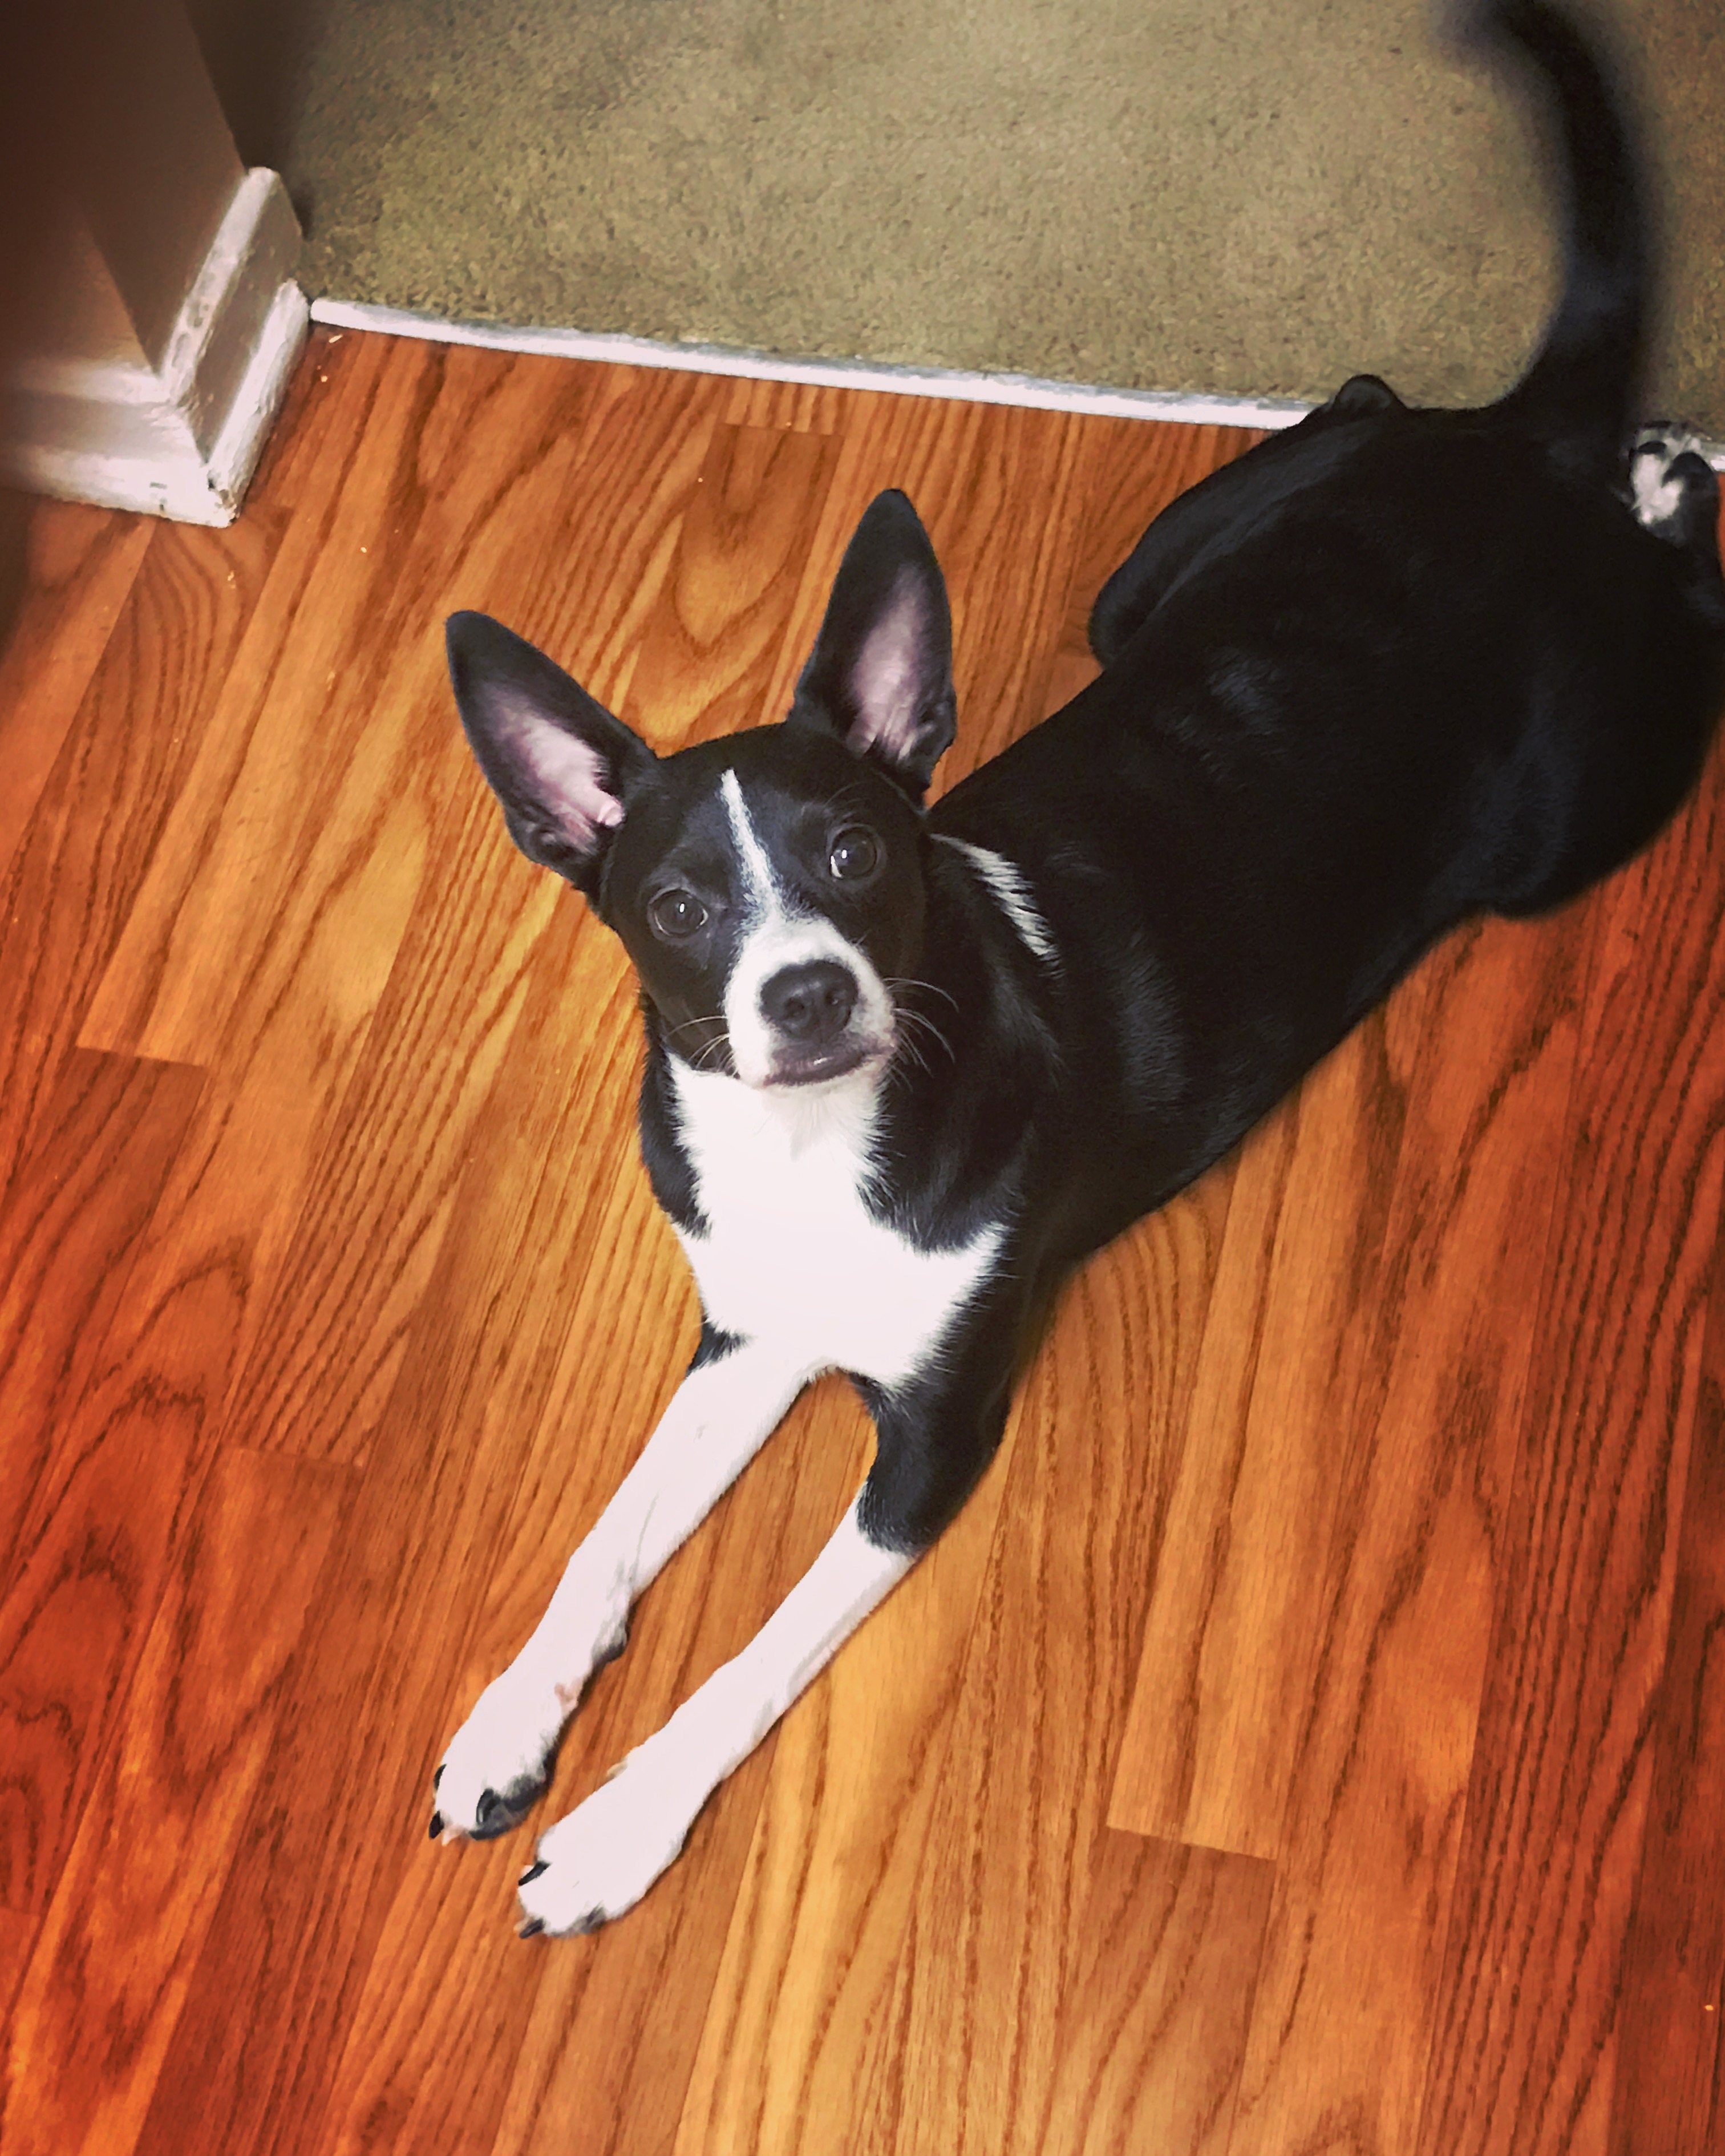Harley: (382, 42, 1725, 1959)
